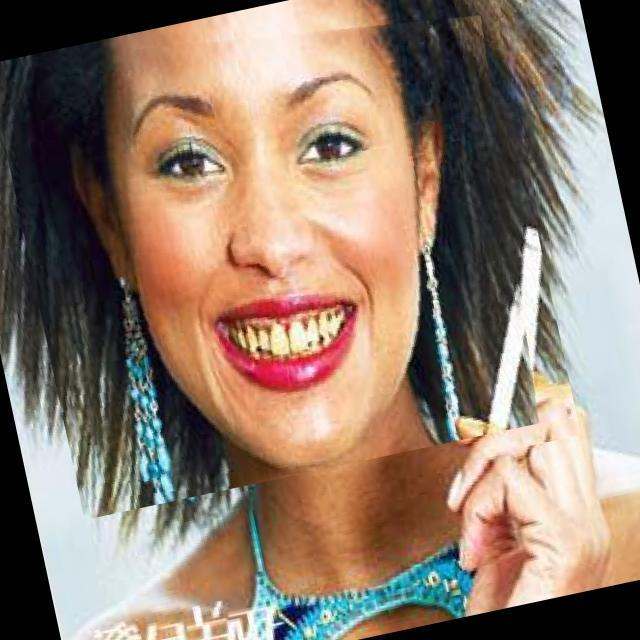cigarette: (454, 177, 580, 450)
